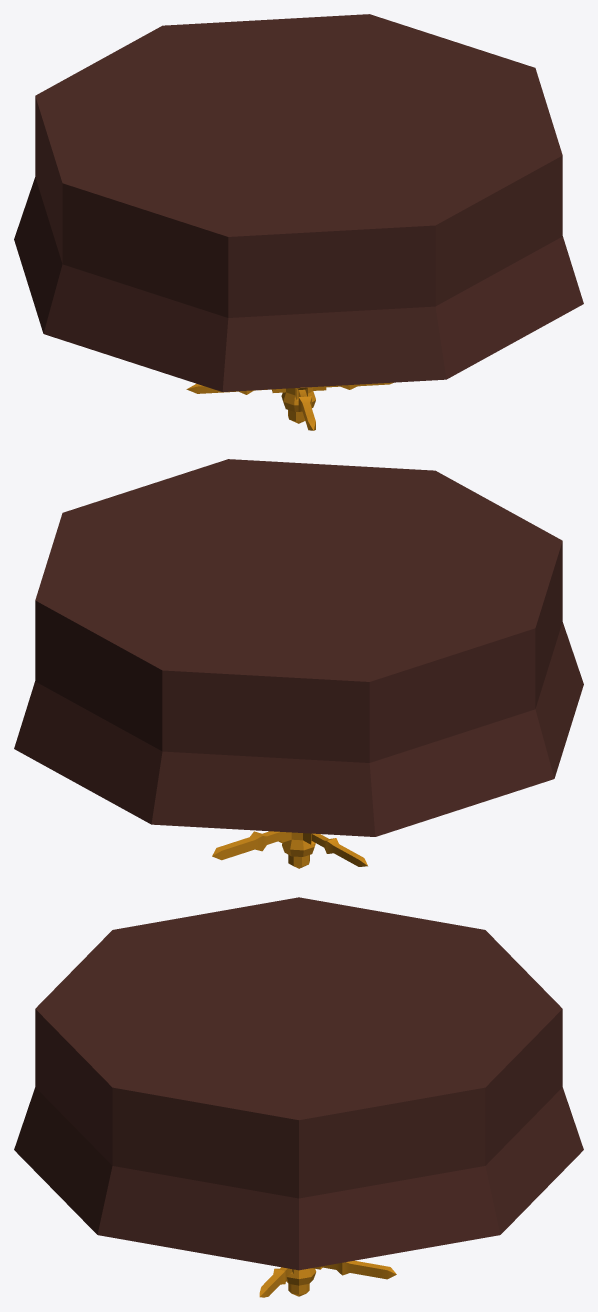
The model's file is Base_Mesh_RouletteWheel (1).fbx.
The picture shows the model from 3 angles, top to bottom: view 1: azimuth 30°, elevation 25°; view 2: azimuth 150°, elevation 25°; view 3: azimuth 270°, elevation 25°; orthographic projection. The views are drawn at different scales.
Parts seen in each view (by area): view 1: BaseMesh_RouletteTable; view 2: BaseMesh_RouletteTable; view 3: BaseMesh_RouletteTable.
Boxes of the visible parts, left/top/right/bottom form: BaseMesh_RouletteTable: left=14, top=14, right=583, bottom=430; BaseMesh_RouletteTable: left=14, top=459, right=583, bottom=868; BaseMesh_RouletteTable: left=14, top=897, right=583, bottom=1297.
Bounding box in the file's own units: 93.52 × 52.16 × 93.52.
